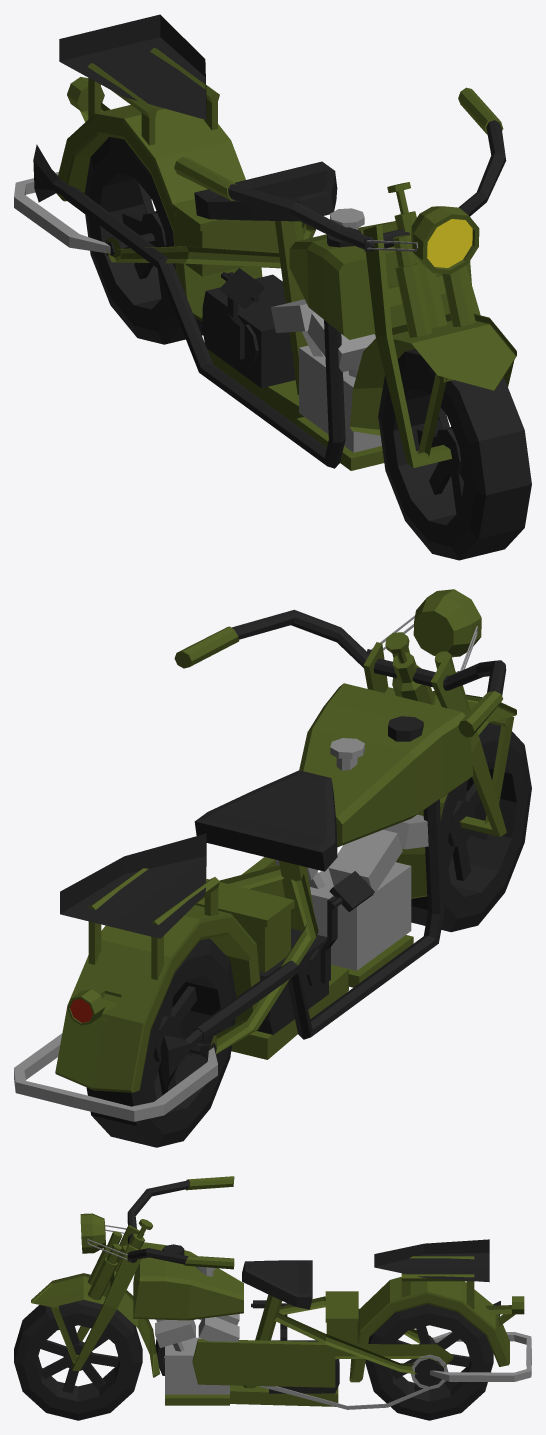
The model's file is Military Motorbike.glb.
3 renders of one model, top to bottom at view 1: azimuth 30°, elevation 25°; view 2: azimuth 150°, elevation 25°; view 3: azimuth 270°, elevation 25°, orthographic. The views are drawn at different scales.
Parts seen in each view (by area): view 1: Motor; view 2: Motor; view 3: Motor.
Part boxes in pixels (x1,y1,x2,y2): Motor: (14,14,531,560); Motor: (14,589,531,1147); Motor: (14,1176,531,1420).
Bounding box in the file's own units: 2.08 × 2.21 × 5.21.
